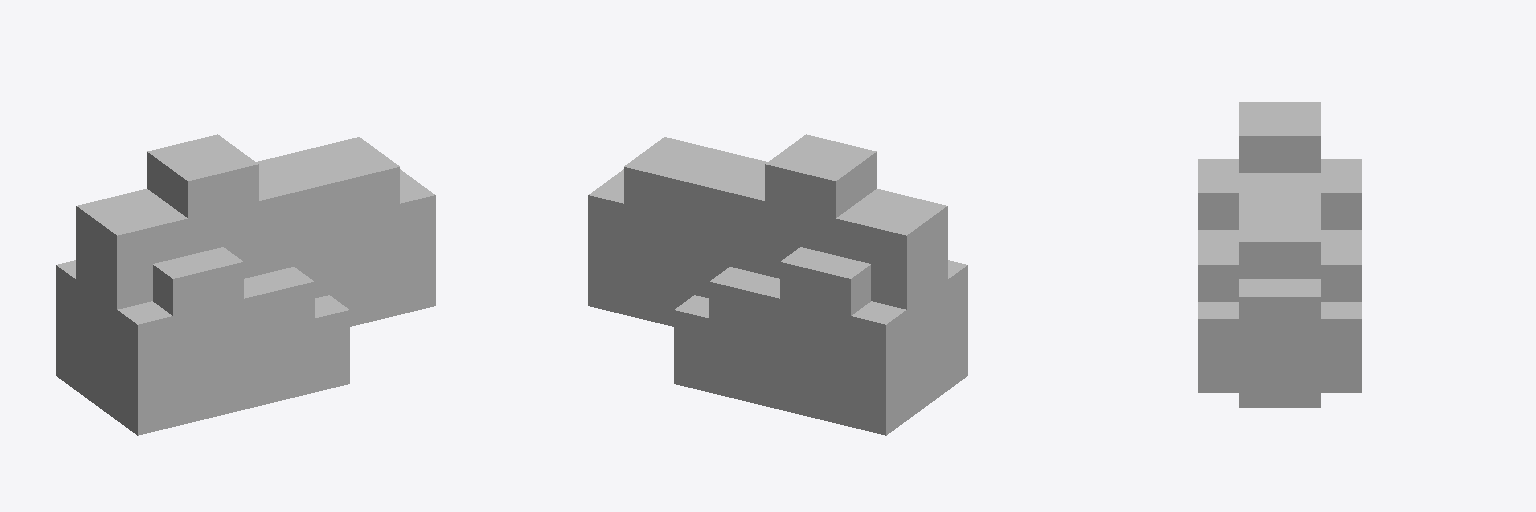
File: Green Laser Left.obj
The picture shows the model from 3 angles: view 1: azimuth 30°, elevation 25°; view 2: azimuth 150°, elevation 25°; view 3: azimuth 270°, elevation 25°; orthographic projection.
Bounding box in the file's own units: 9 × 6 × 4.